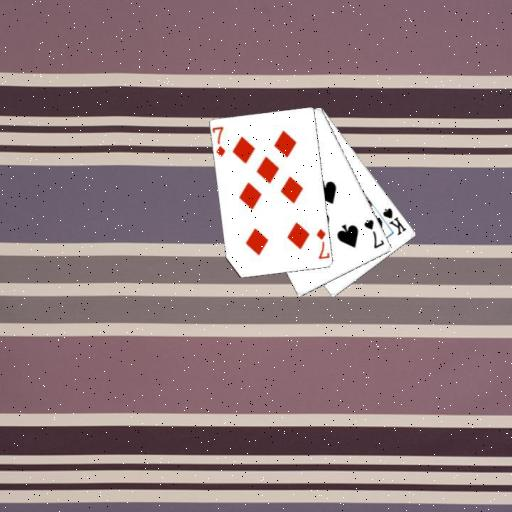7D: (314, 225, 330, 261), (211, 124, 227, 159)
7S: (361, 216, 386, 250)
KS: (380, 205, 408, 237)
